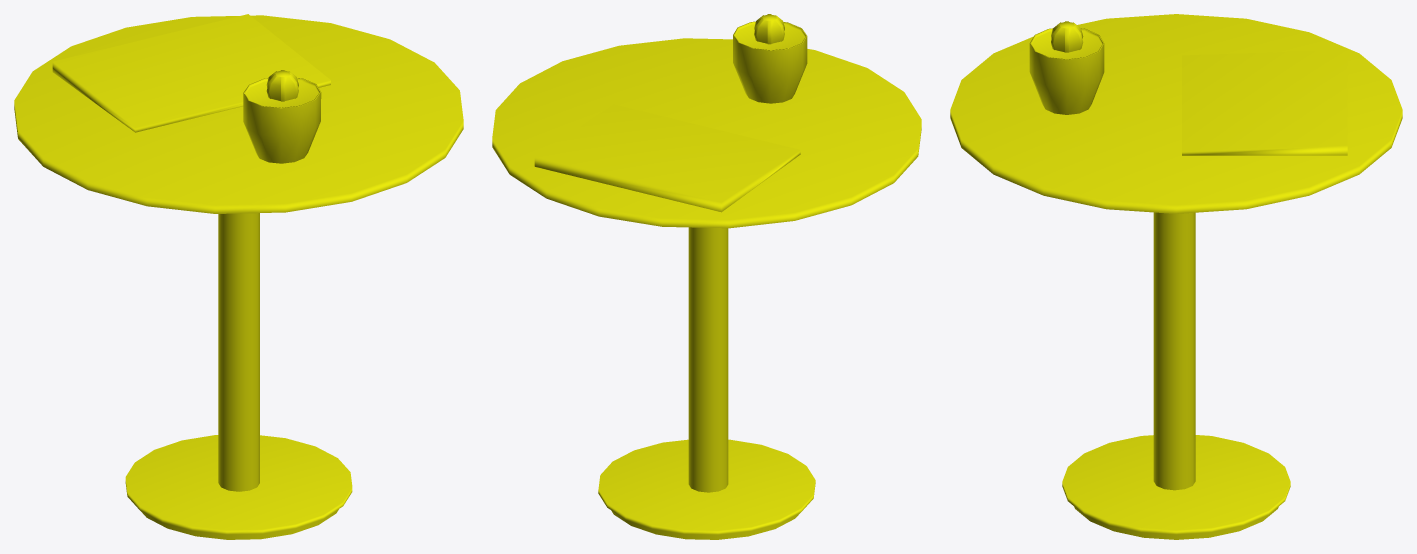
The model's file is MESITA.fbx.
3 views of the same model, side by side, from view 1: azimuth 30°, elevation 25°; view 2: azimuth 150°, elevation 25°; view 3: azimuth 270°, elevation 25° (orthographic). The views are drawn at different scales.
Visible parts, largest first — view 1: MESITA; view 2: MESITA; view 3: MESITA.
Part boxes in pixels (bbox=[...]): MESITA: bbox=[14, 14, 463, 539]; MESITA: bbox=[492, 14, 921, 539]; MESITA: bbox=[950, 14, 1402, 539].
Bounding box in the file's own units: 1.4 × 1.59 × 1.4.
